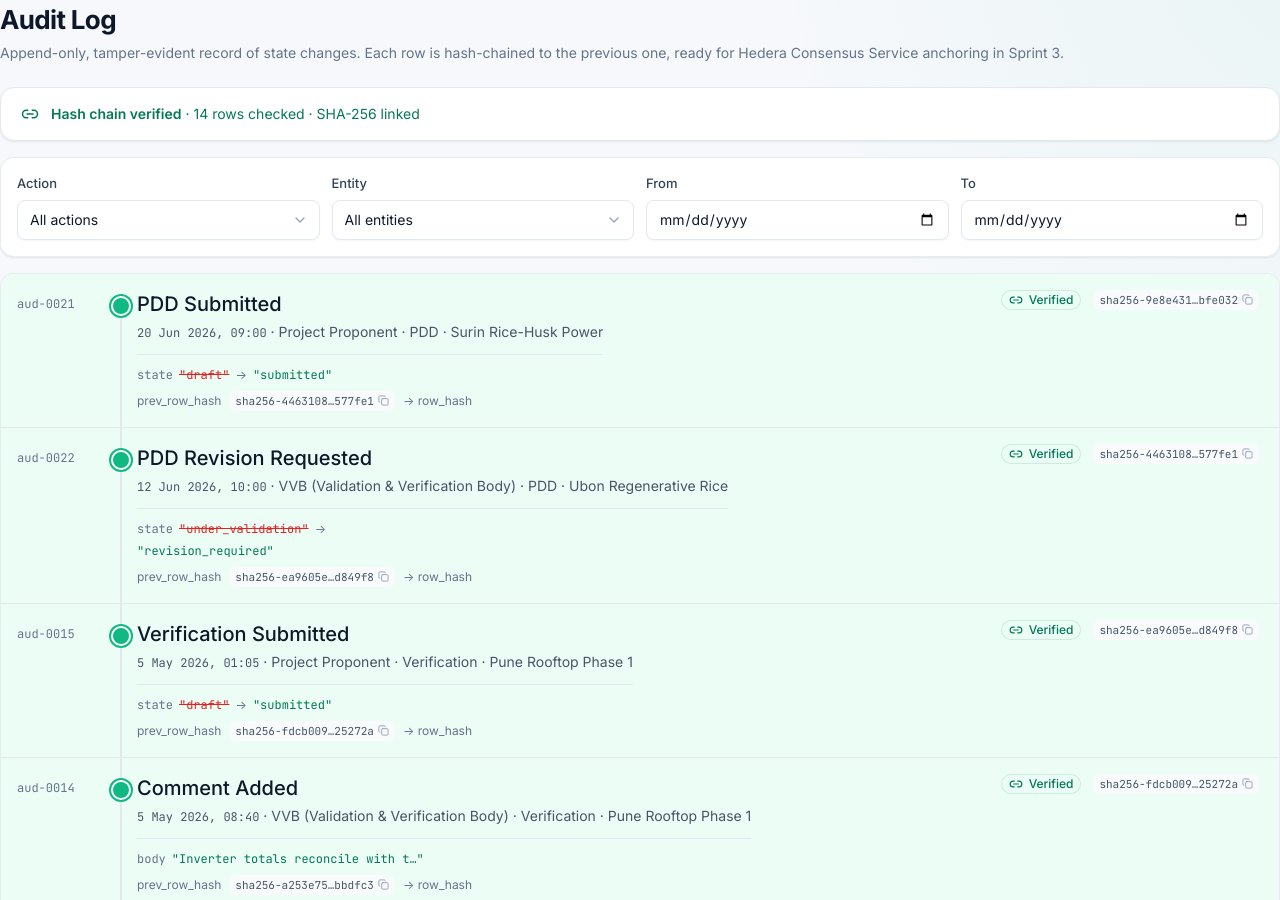
Test: AuditLog — readable labels instead of raw enums › shows a proper empty state when filters match nothing
Type "2099-01-01" into the date field labelled "From". click: (797, 220)
box: [646,200,948,240]
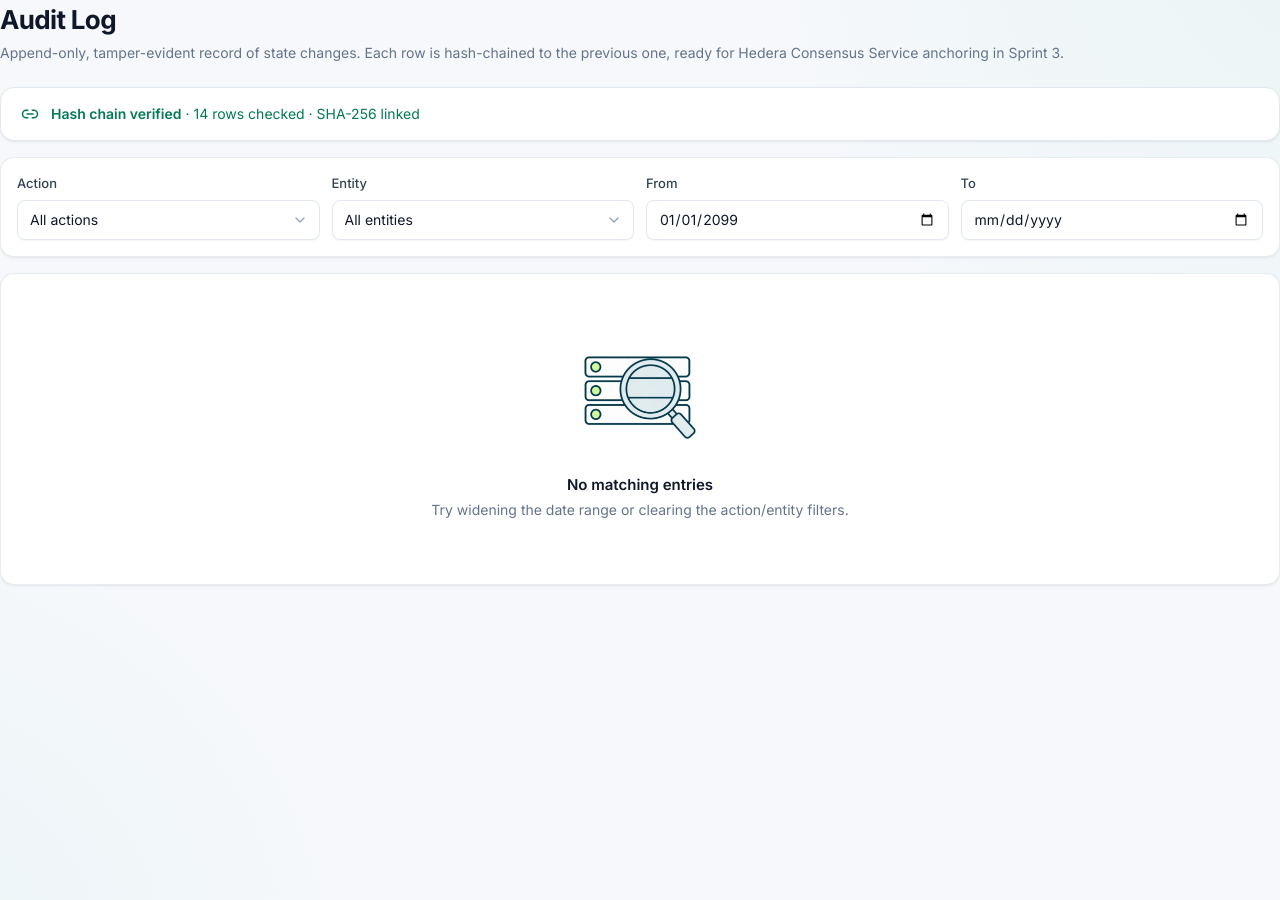
Check: the text "No matching entries" is shown, box [567,474,713,496]
Check: the text "filter" is shown, box [431,501,849,518]
